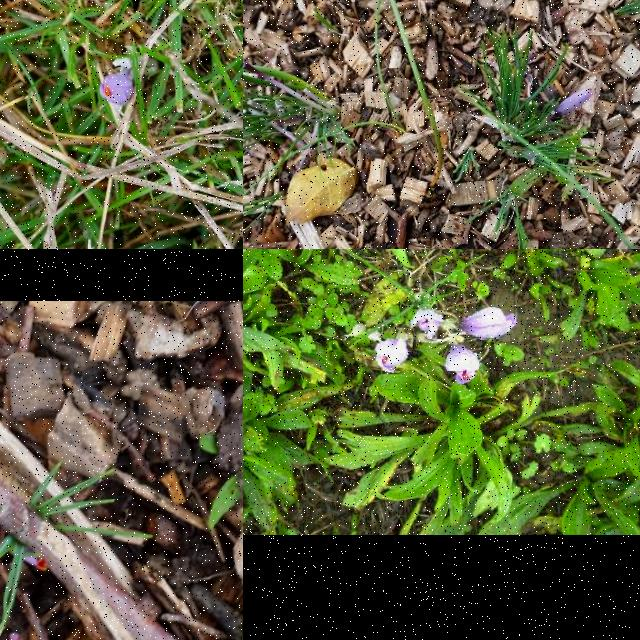flower: (462, 306, 518, 339), (554, 88, 594, 122), (100, 70, 134, 106), (446, 348, 480, 384), (376, 340, 408, 374), (412, 310, 444, 338), (24, 554, 50, 570)
